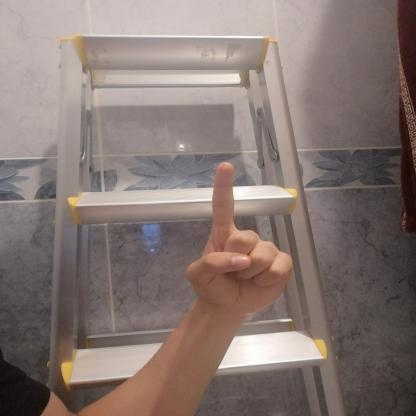BAA: (173, 154, 304, 322)
